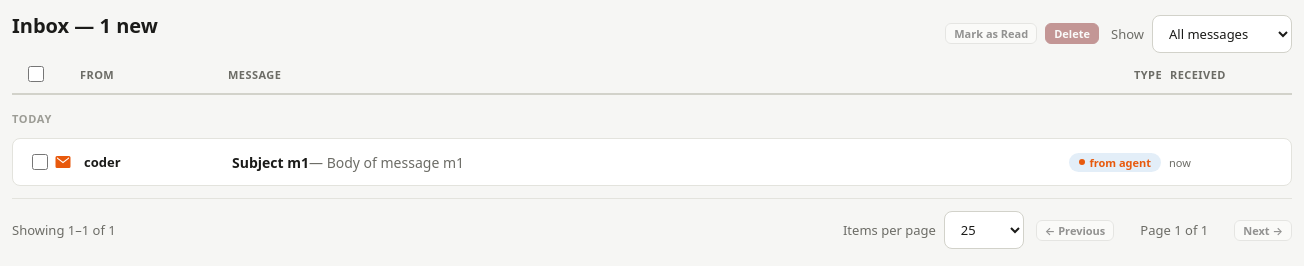
Test case: reading a message › opens the detail view and marks the message read via the provider
Expected: the heading "Inbox — 1 new" is shown, [12,12,158,39]
Click the button with aria-label "Open message: Subject m1": {"x": 102, "y": 162} [54,152,1279,172]
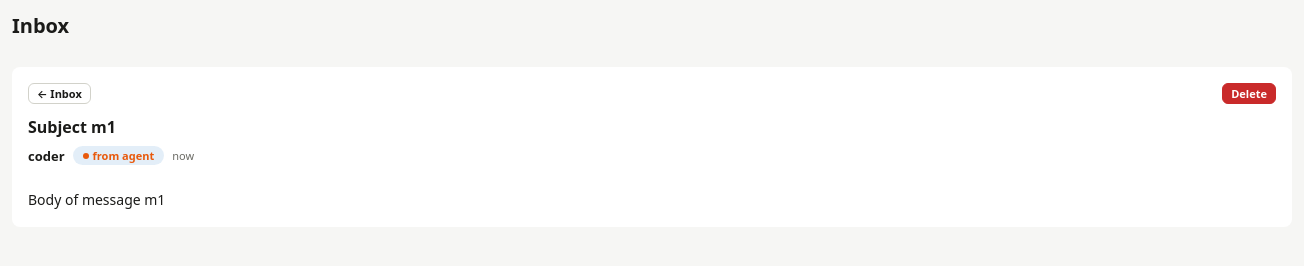
Expected: the text "Body of message m1" is shown, [28,190,165,209]
Expected: the button with aria-label "Back to inbox" is shown, [28,83,91,104]
